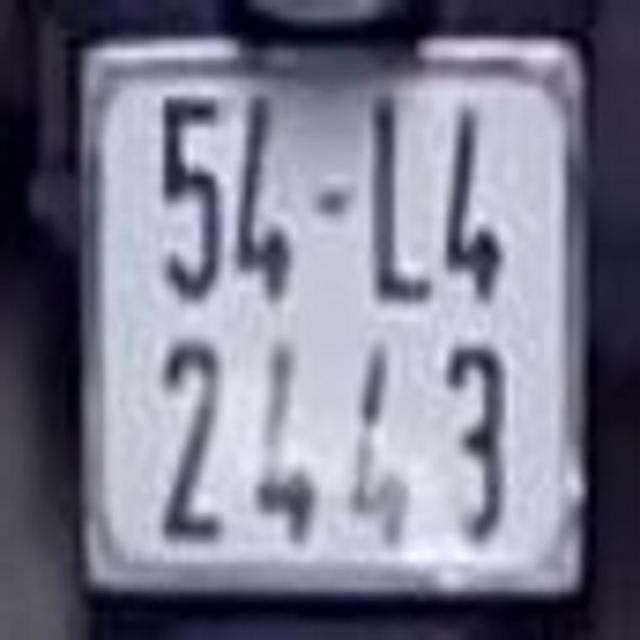2: (162, 340, 222, 530)
3: (446, 347, 509, 548)
4: (256, 347, 324, 544), (352, 346, 414, 546), (443, 110, 503, 300), (233, 95, 290, 292)
5: (156, 90, 223, 297)
L: (368, 98, 436, 304)
